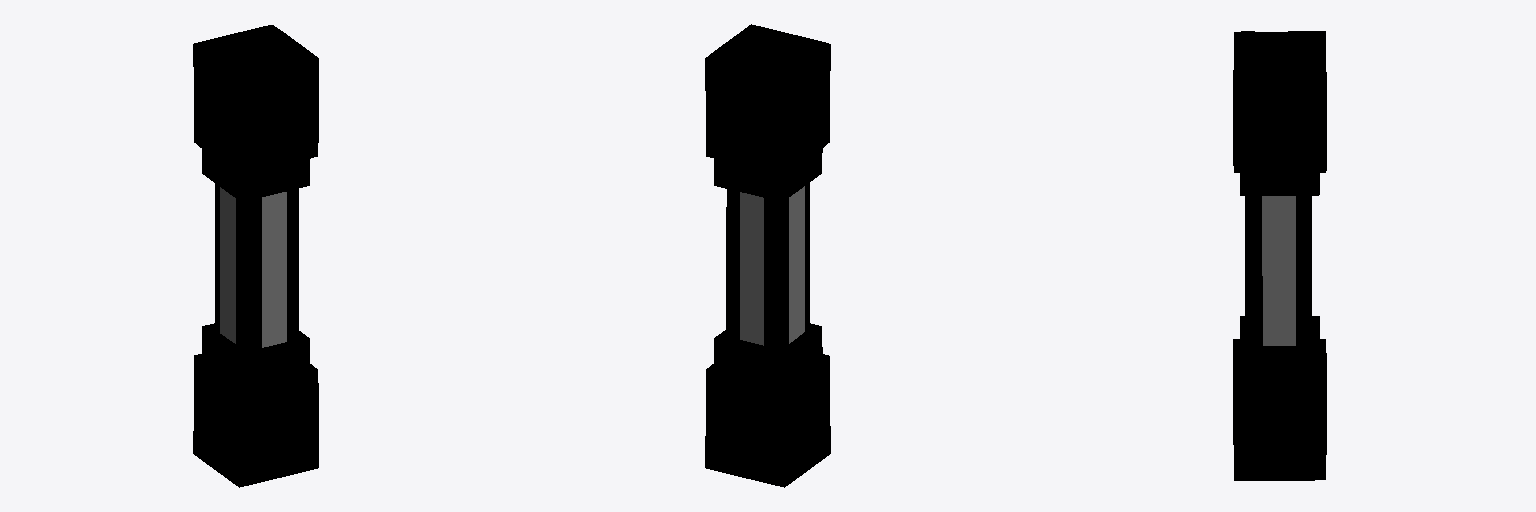
Rendered from column3.obj.
3 views of the same model, side by side, from view 1: azimuth 30°, elevation 25°; view 2: azimuth 150°, elevation 25°; view 3: azimuth 270°, elevation 25° (orthographic).
Visible parts, largest first — view 1: column3low:Group38173 column3low:initialShadingGroup column3low:, pattern_plane:pPlane2; view 2: column3low:Group38173 column3low:initialShadingGroup column3low:, pattern_plane:pPlane2; view 3: column3low:Group38173 column3low:initialShadingGroup column3low:, pattern_plane:pPlane2.
Boxes of the visible parts, x1,y1,x2,y2 form: column3low:Group38173 column3low:initialShadingGroup column3low:: [193, 25, 318, 487]; pattern_plane:pPlane2: [220, 187, 286, 347]; column3low:Group38173 column3low:initialShadingGroup column3low:: [705, 24, 830, 487]; pattern_plane:pPlane2: [740, 186, 804, 345]; column3low:Group38173 column3low:initialShadingGroup column3low:: [1233, 31, 1326, 480]; pattern_plane:pPlane2: [1262, 196, 1295, 345].
Bounding box in the file's own units: 1.37 × 6.69 × 1.38.